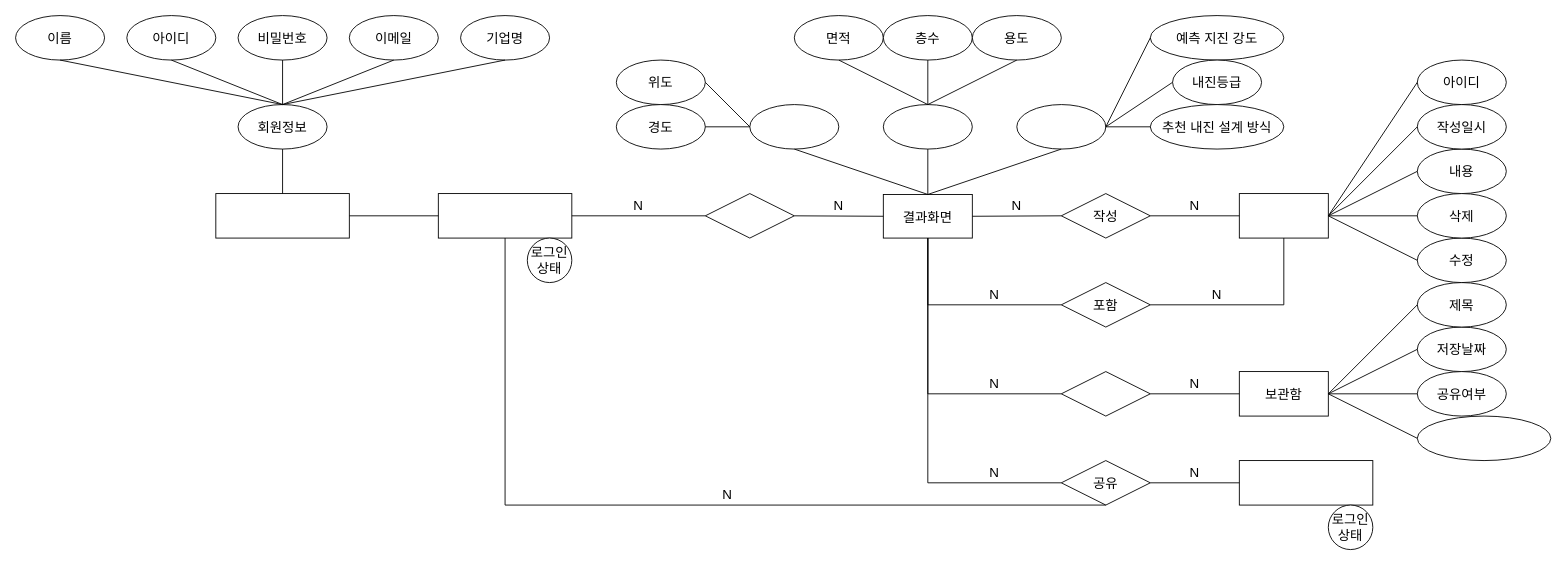
Image size: 1566x565. Some labels were removed from this diagram. The centre of each missing label's shape, as x and y in pixels:
건물정보: pixel 927 126
결과: pixel 1061 126
과거 검색 내역 조회: pixel 1483 438
마이페이지: pixel 282 215
별점, 댓글: pixel 1283 215
사용자 메인화면: pixel 504 215
열람자 메인화면: pixel 1305 482
위치: pixel 794 126
저장: pixel 1105 393
조회: pixel 749 215
